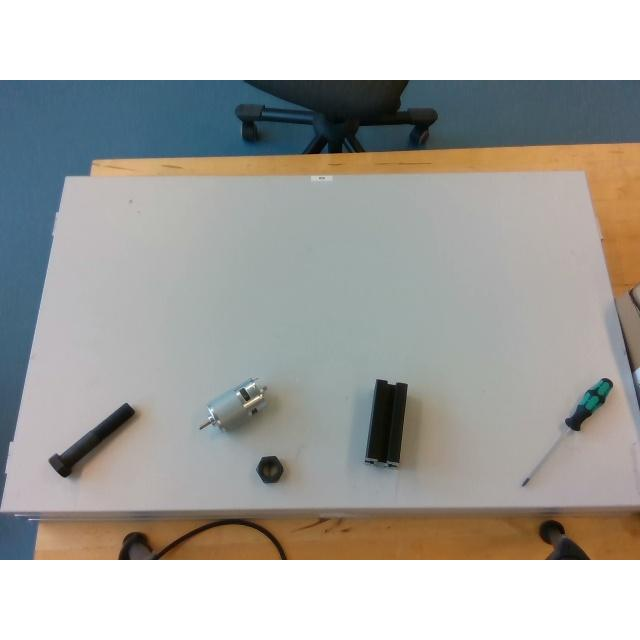M20: (257, 454, 283, 482)
M20_100: (49, 403, 134, 477)
Motor2: (200, 378, 266, 430)
S40_40_B: (365, 379, 407, 467)
Screwdriver: (520, 377, 612, 487)
